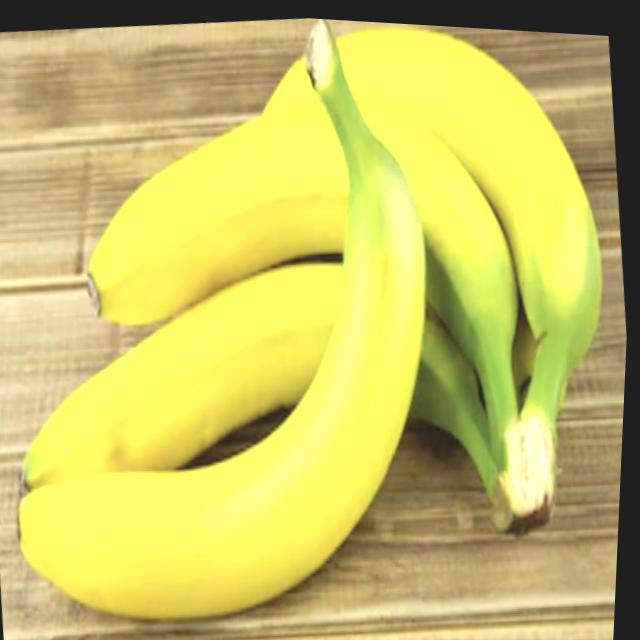Banana: (0, 0, 640, 567), (0, 0, 473, 640)
